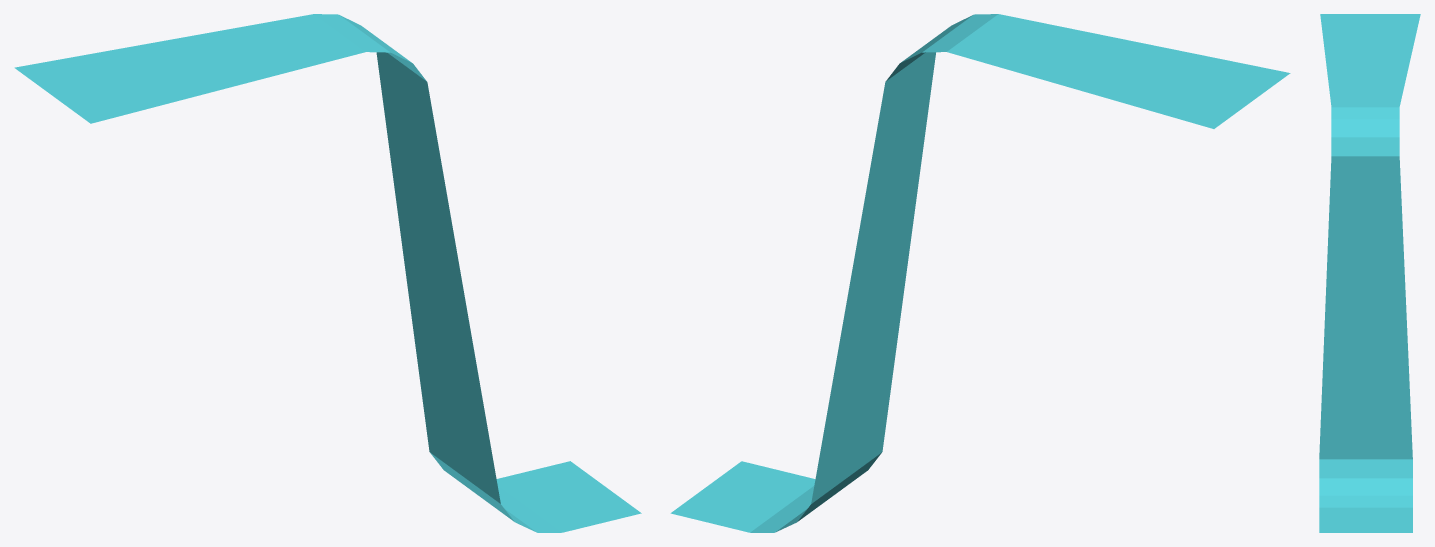
The model's file is water.fbx.
The picture shows the model from 3 angles, left to right: view 1: azimuth 30°, elevation 25°; view 2: azimuth 150°, elevation 25°; view 3: azimuth 270°, elevation 25°; orthographic projection. The views are drawn at different scales.
Parts seen in each view (by area): view 1: water; view 2: water; view 3: water.
Boxes of the visible parts, x1,y1,x2,y2 form: water: (14,14,641,532); water: (670,14,1290,532); water: (1319,14,1420,532).
Bounding box in the file's own units: 442 × 402 × 108.
